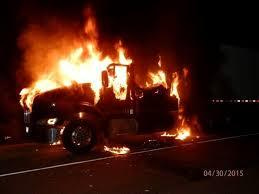fire: (20, 42, 185, 101)
